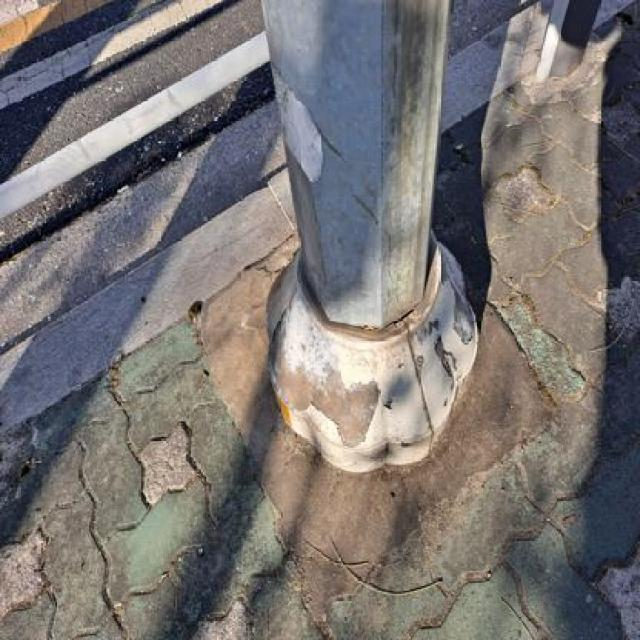pole: (235, 0, 507, 472)
